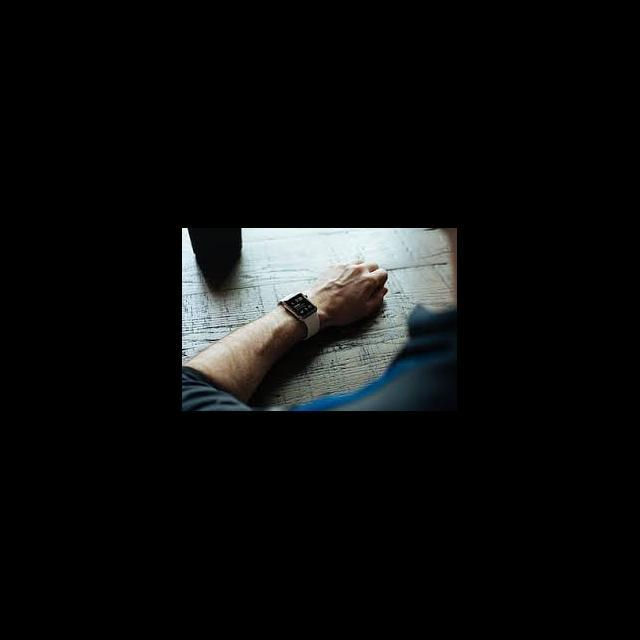watch: (270, 282, 360, 346)
